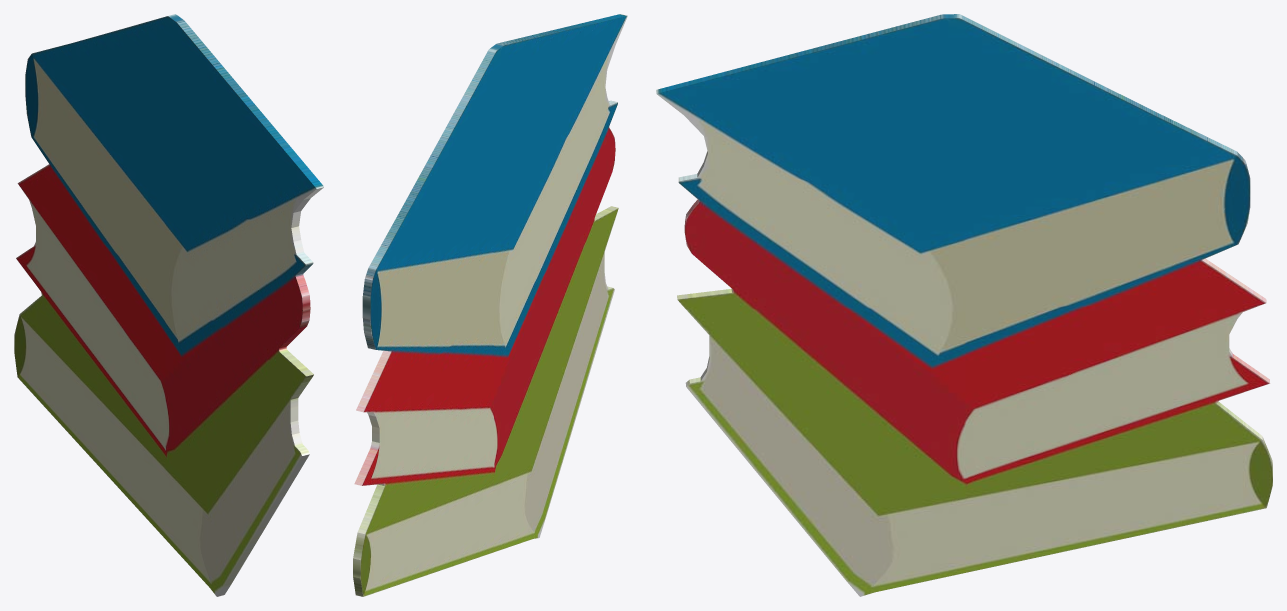
File: books  icon.fbx
3 renders of one model, left to right at view 1: azimuth 30°, elevation 25°; view 2: azimuth 150°, elevation 25°; view 3: azimuth 270°, elevation 25°, orthographic. The views are drawn at different scales.
Parts seen in each view (by area): view 1: Plane.013; view 2: Plane.013; view 3: Plane.013.
Part boxes in pixels (<box>): Plane.013: <box>14,14,323,596</box>; Plane.013: <box>353,14,627,596</box>; Plane.013: <box>656,14,1272,596</box>.
Size of the model in its own units: 1.46 by 41.44 by 40.08.
Materials: 1 (1 with a texture image).
